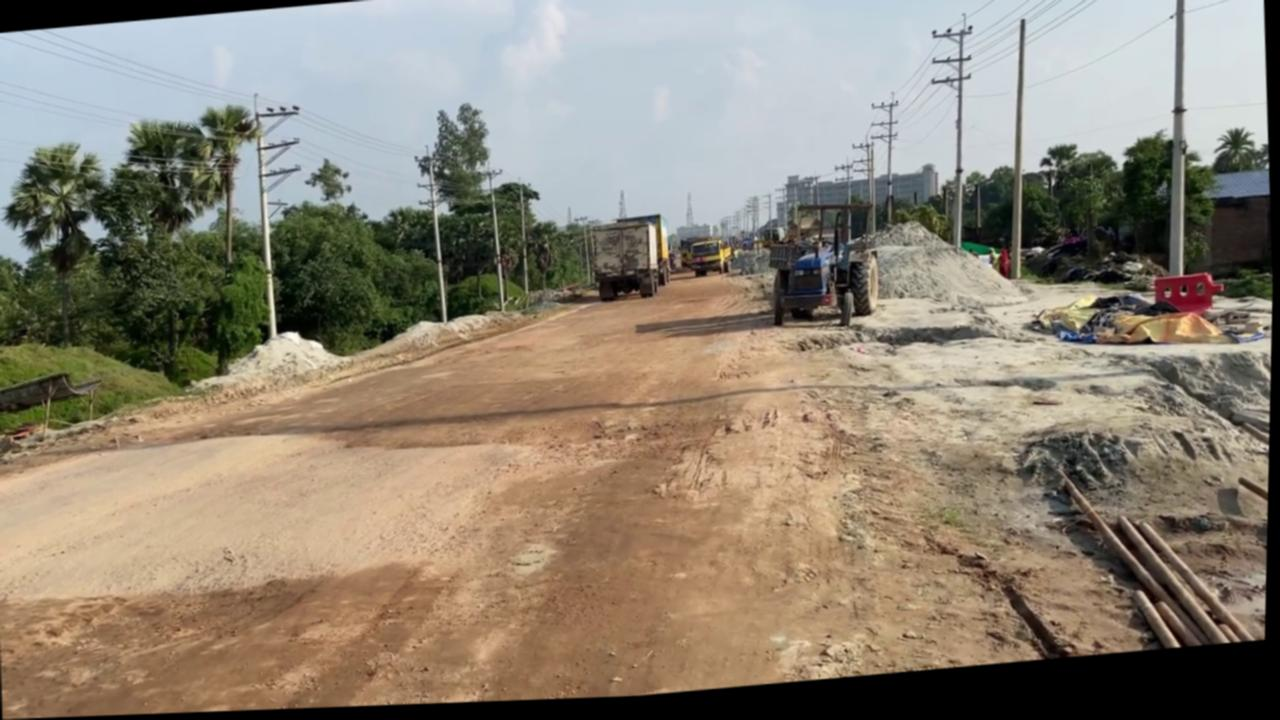Construction-barrier: (1007, 384, 1273, 667), (1140, 278, 1210, 324)
Garbage: (1026, 286, 1246, 361)
Pole: (1146, 0, 1199, 284), (252, 101, 303, 354), (1000, 33, 1039, 272)
Traffic-sign: (126, 120, 244, 387), (198, 108, 297, 384), (26, 143, 142, 351), (422, 108, 509, 326)
Tree: (773, 206, 887, 334), (592, 221, 676, 312), (628, 220, 681, 297), (698, 246, 745, 285), (687, 242, 720, 277)
